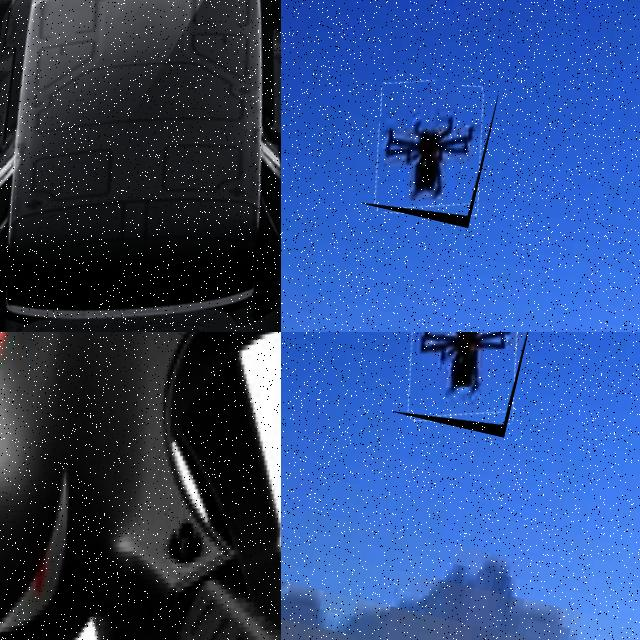drone: (0, 0, 281, 332), (0, 332, 281, 640), (360, 70, 498, 228), (392, 332, 535, 437)
